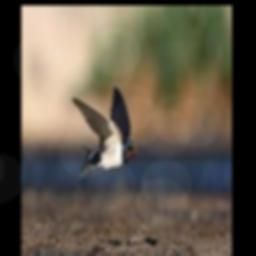Swallow: (72, 86, 137, 180)
